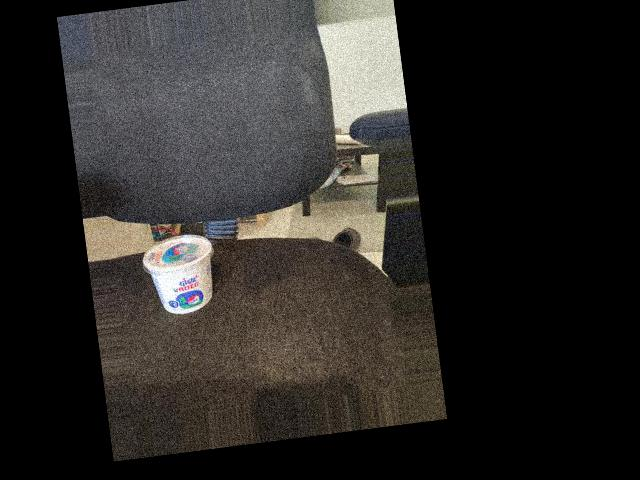cotage: (139, 230, 224, 321)
